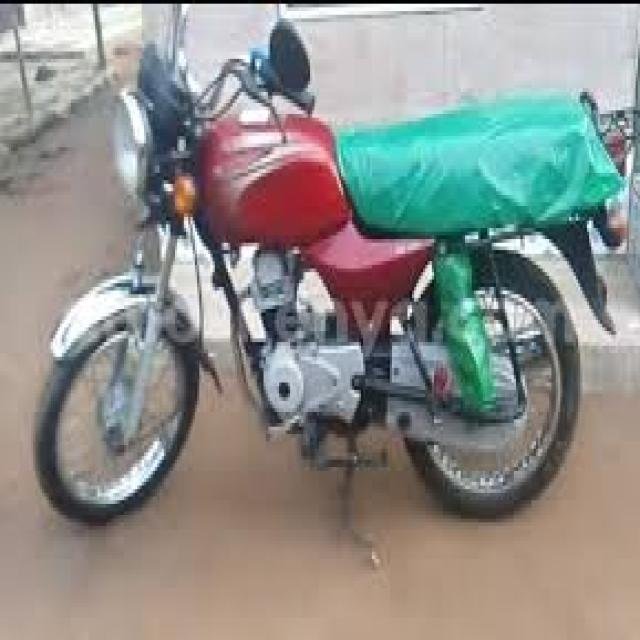bodaboda: (17, 5, 640, 537)
